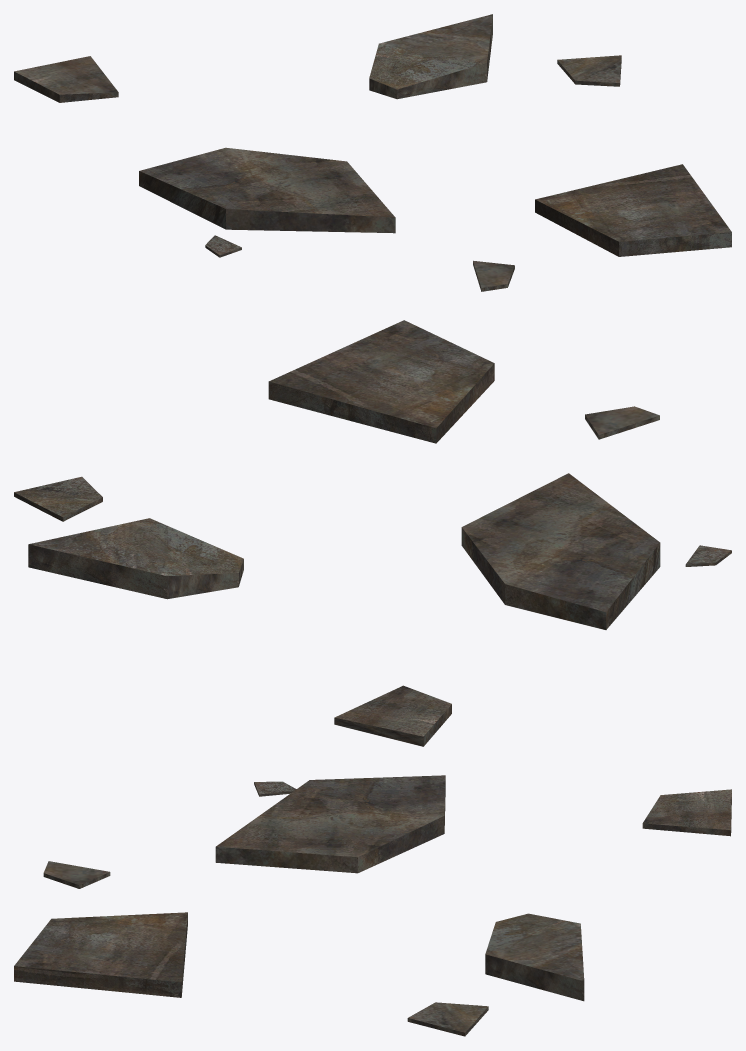
File: exploded_wall_parts_01.dae
3 renders of one model, top to bottom at view 1: azimuth 30°, elevation 25°; view 2: azimuth 150°, elevation 25°; view 3: azimuth 270°, elevation 25°, orthographic. The views are drawn at different scales.
Visible parts, largest first — view 1: Mesh; view 2: Mesh; view 3: Mesh.
Part boxes in pixels (box(x1,y1,x2,y2)): Mesh: box(14, 14, 731, 291); Mesh: box(14, 320, 731, 746); Mesh: box(14, 775, 731, 1036).
Size of the model in its own units: 0.9654 by 0.0377 by 1.16.
